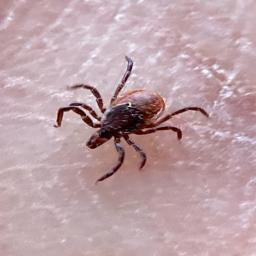Ixodes scapularis: (55, 57, 208, 184)
